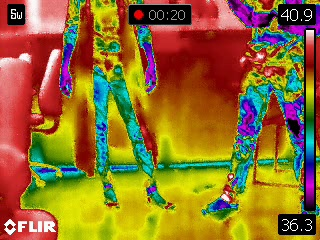human: (53, 1, 179, 211), (205, 1, 320, 215)
